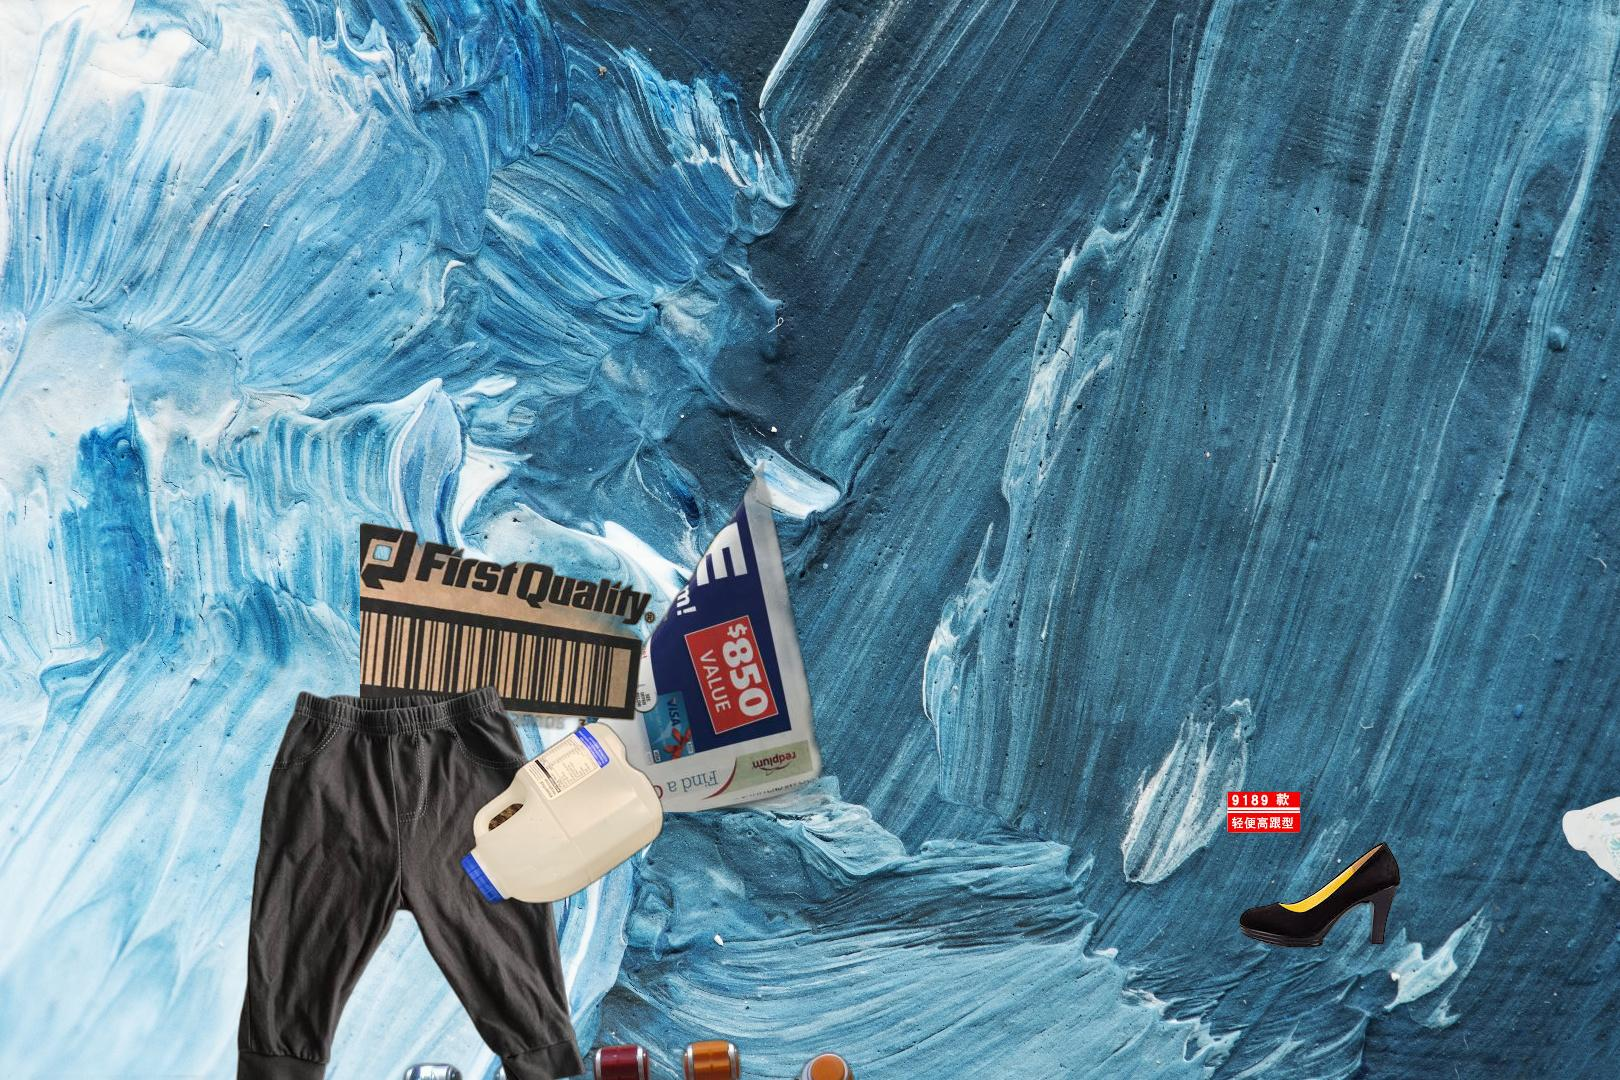biological: (8, 1075, 548, 1080)
clothes: (233, 680, 588, 1080)
paper: (534, 454, 925, 812)
penholder: (391, 1035, 953, 1080)
plastic-bottles: (456, 716, 688, 1080)
shoes: (1223, 790, 1436, 996)
trash: (1559, 693, 1620, 887)
trashbox-cardboard: (360, 520, 871, 780)
